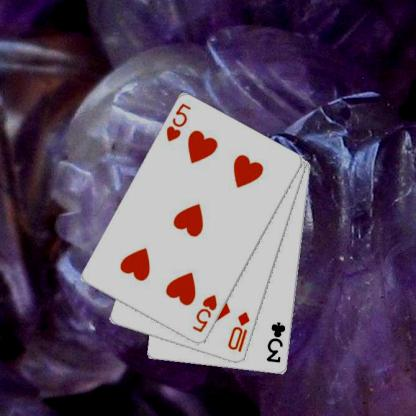10D: (225, 309, 251, 353)
3C: (264, 320, 287, 364)
5H: (190, 292, 218, 334), (164, 102, 192, 144)
